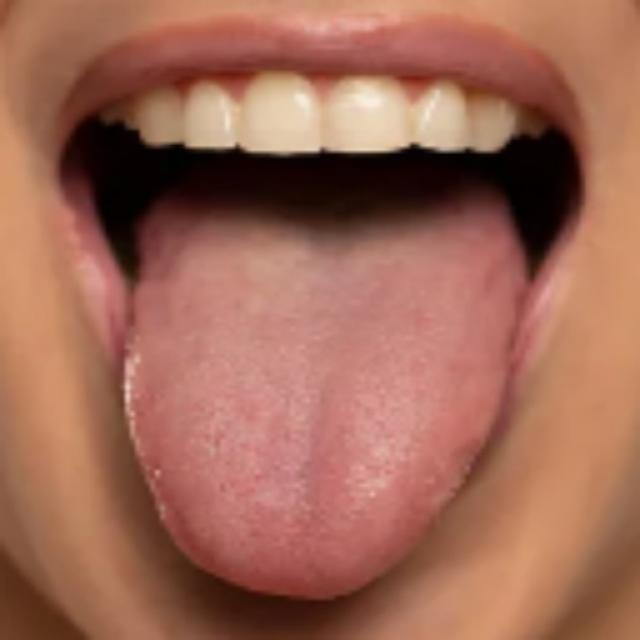processing_area: (124, 201, 524, 594)
